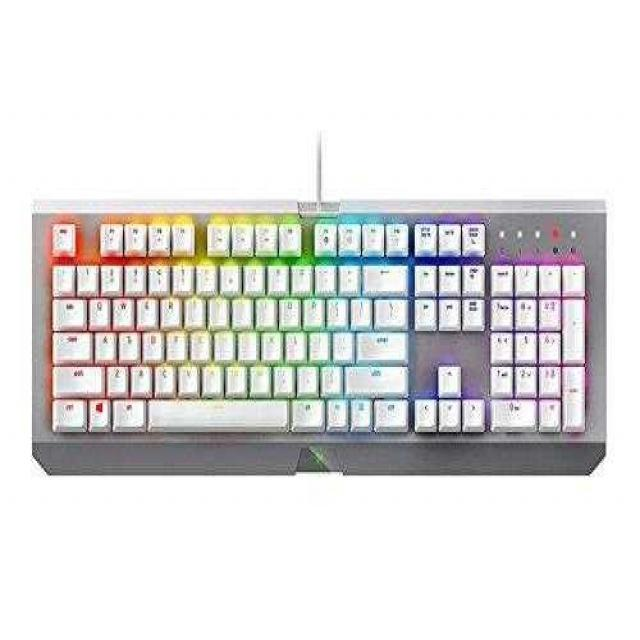keyboard: (31, 207, 606, 476)
